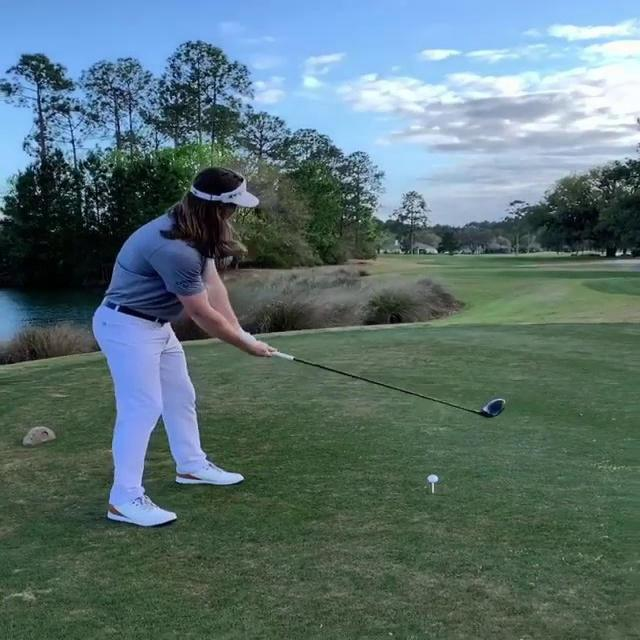ClubHandle: (271, 354, 507, 417)
ClubHead: (481, 398, 507, 416)
GolfBall: (426, 475, 438, 483)
